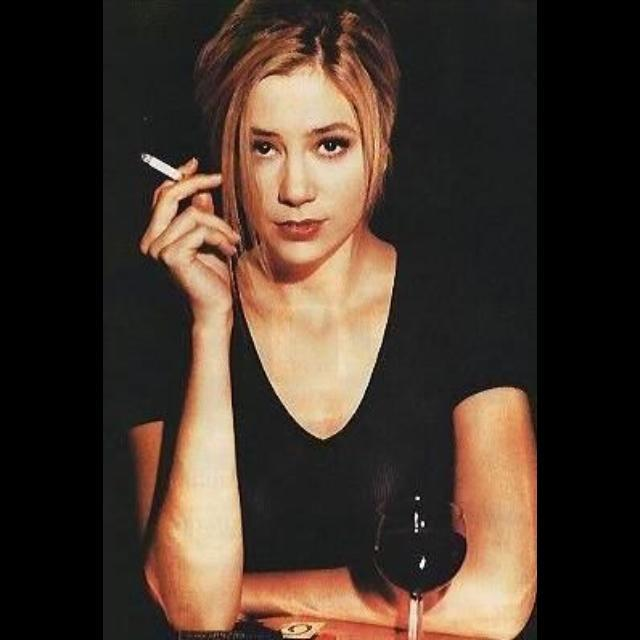rokok: (138, 147, 186, 185)
